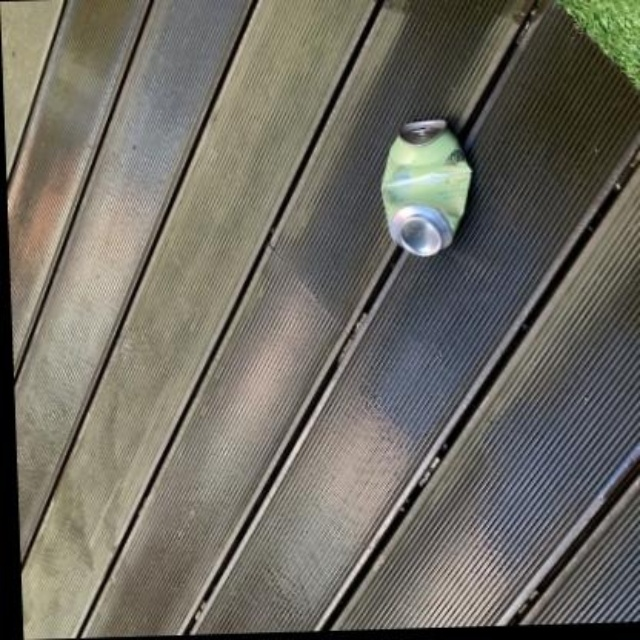trash: (382, 120, 471, 255)
